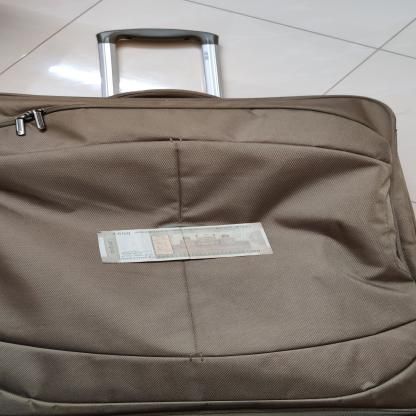New500Back: (96, 222, 274, 263)
